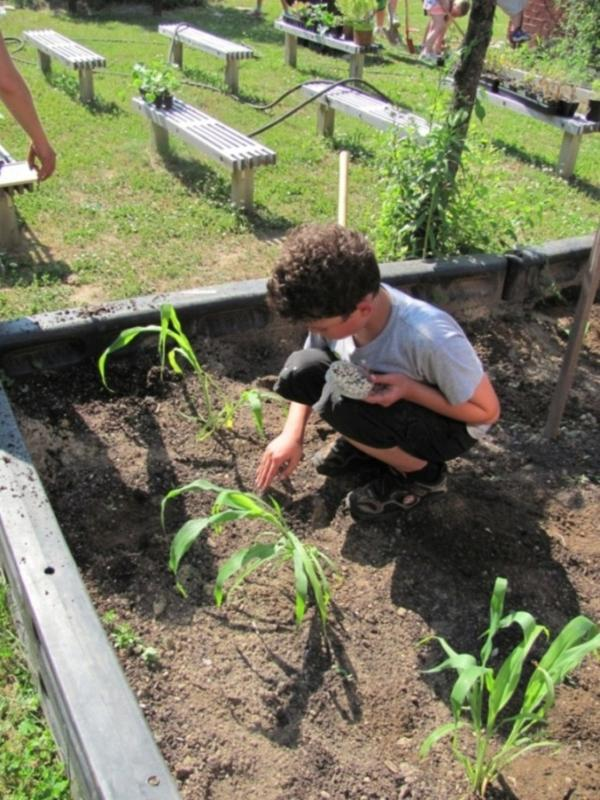person: (255, 219, 502, 500)
